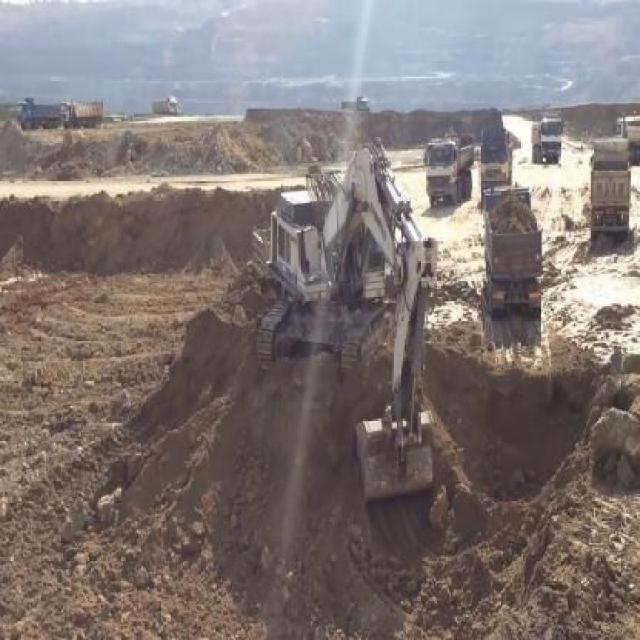dump_truck: (482, 184, 544, 314), (588, 134, 630, 240), (422, 132, 478, 206), (475, 128, 514, 184), (529, 117, 562, 161)
excavator: (249, 128, 443, 528)
